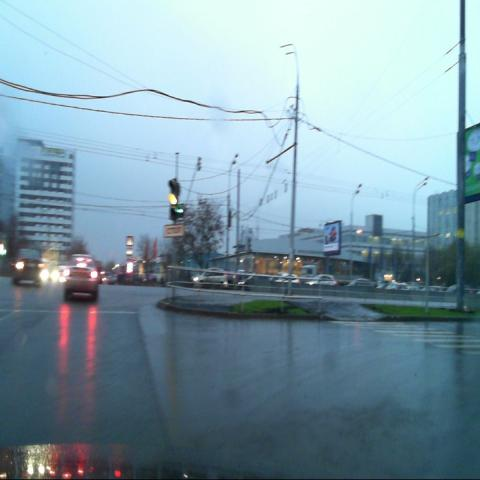6_16: (164, 224, 183, 238)
